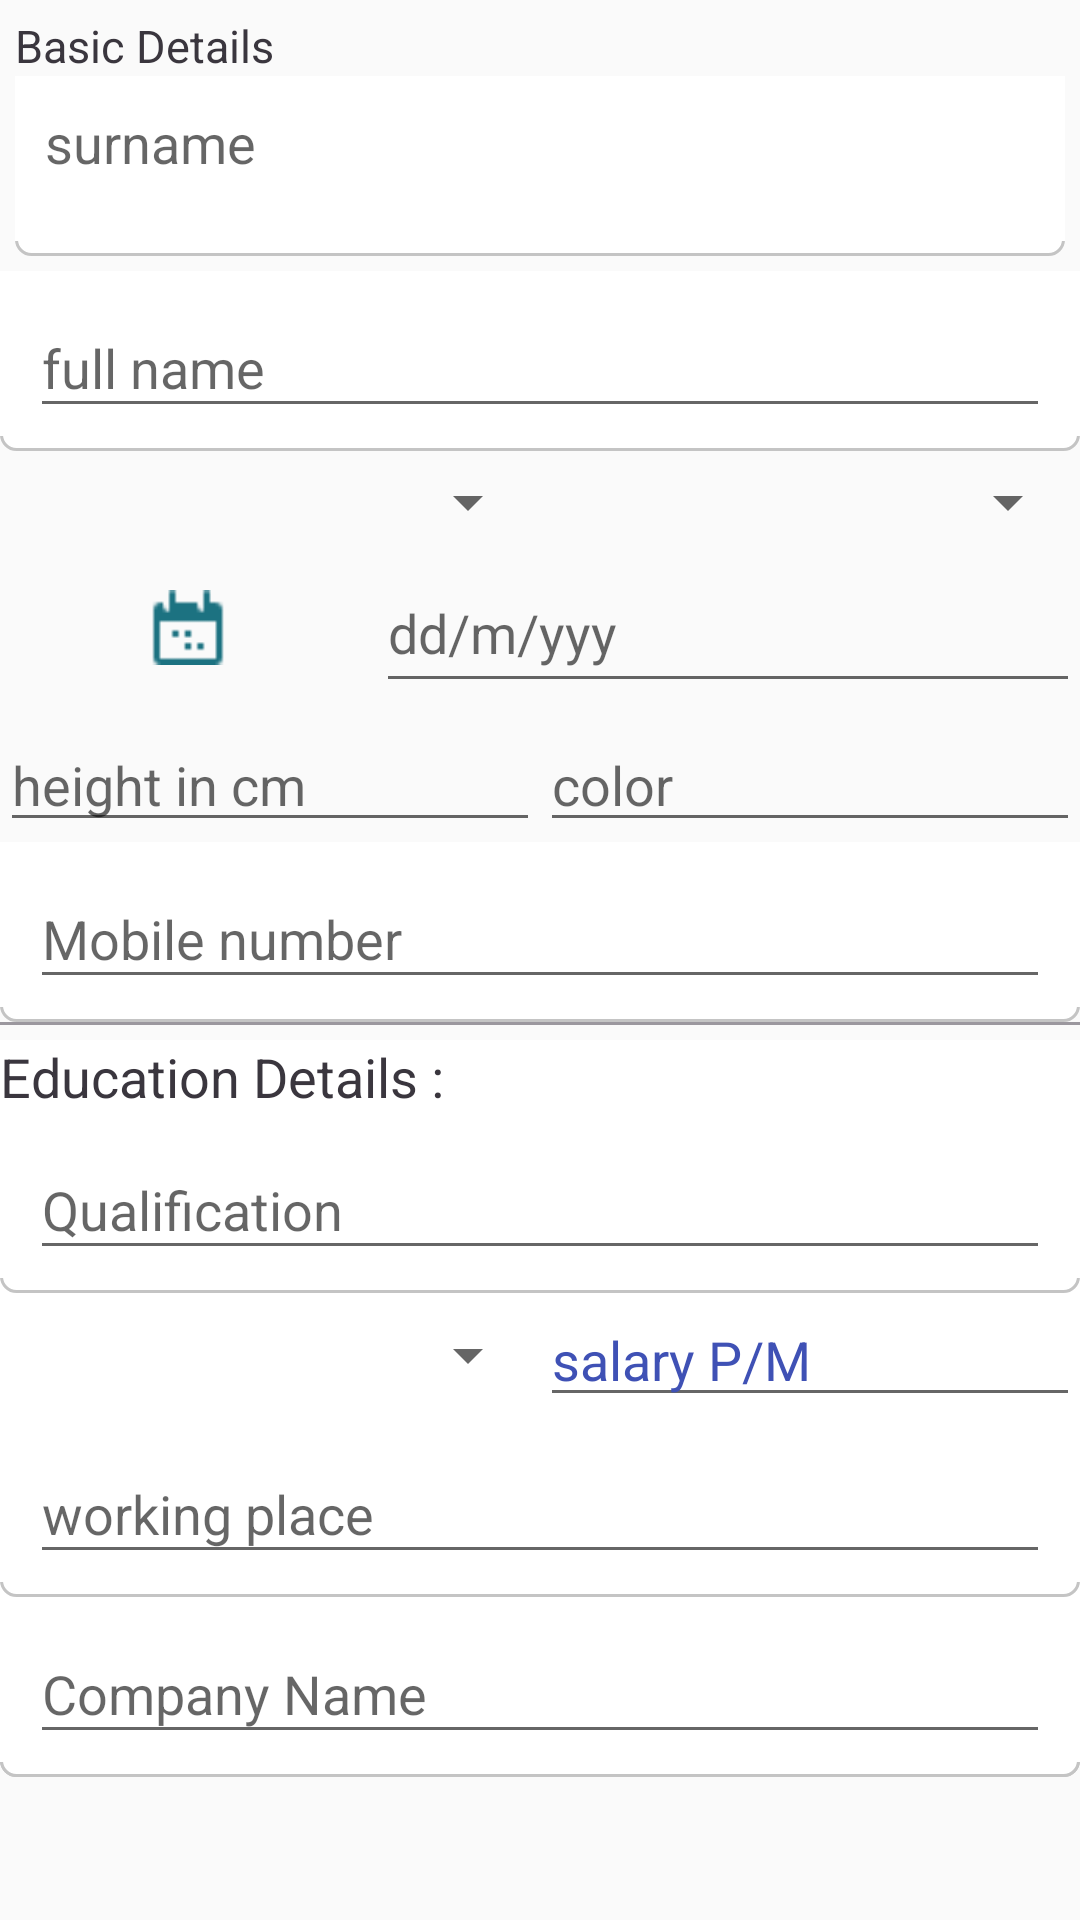

Point at icon controls on the screen. Image size 1080x1920, points as [x,y].
date: [188,627]
